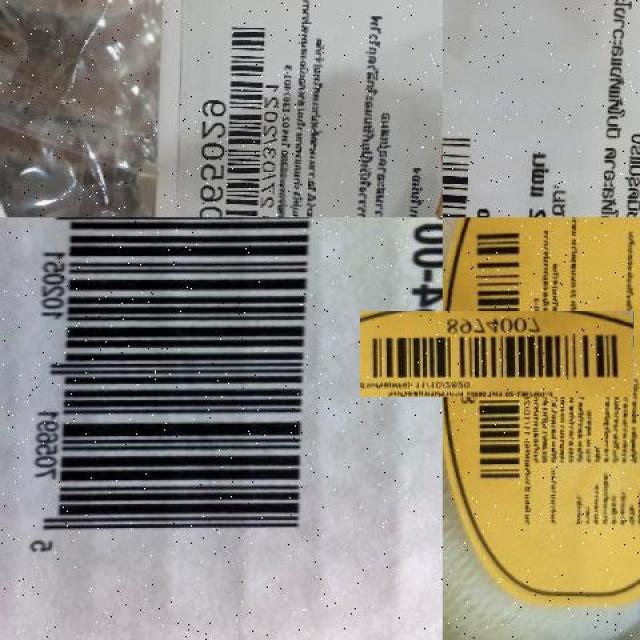Barcode: (4, 217, 337, 568), (406, 264, 587, 444), (198, 11, 278, 217)
